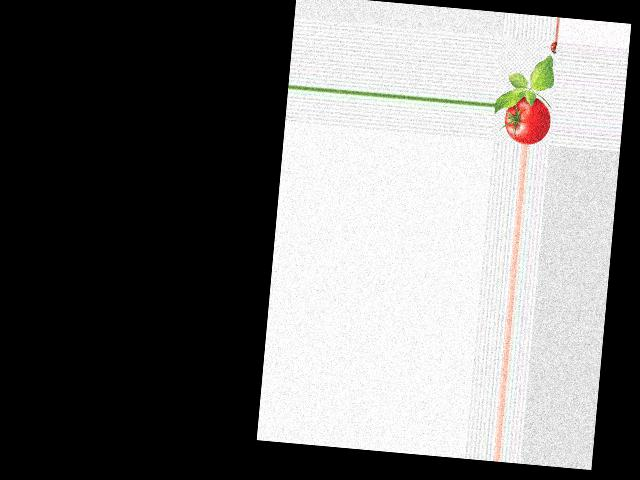tomato: (503, 95, 552, 146)
